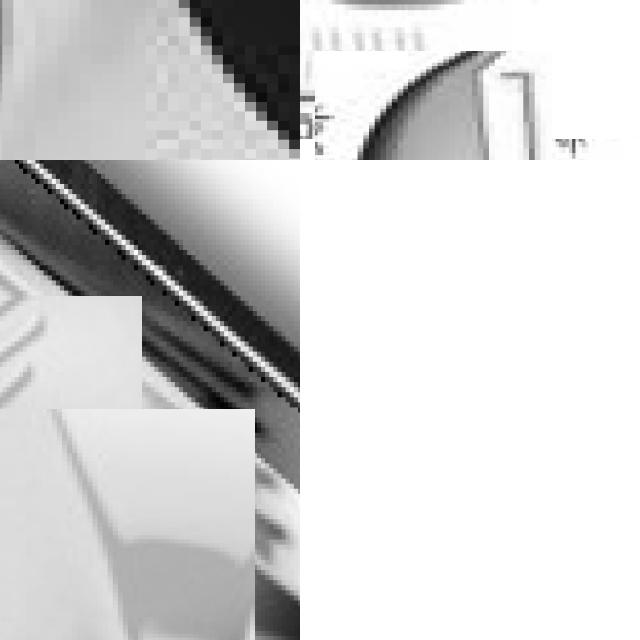forks: (0, 353, 199, 640), (0, 0, 300, 160)
spoons: (300, 94, 596, 160)
